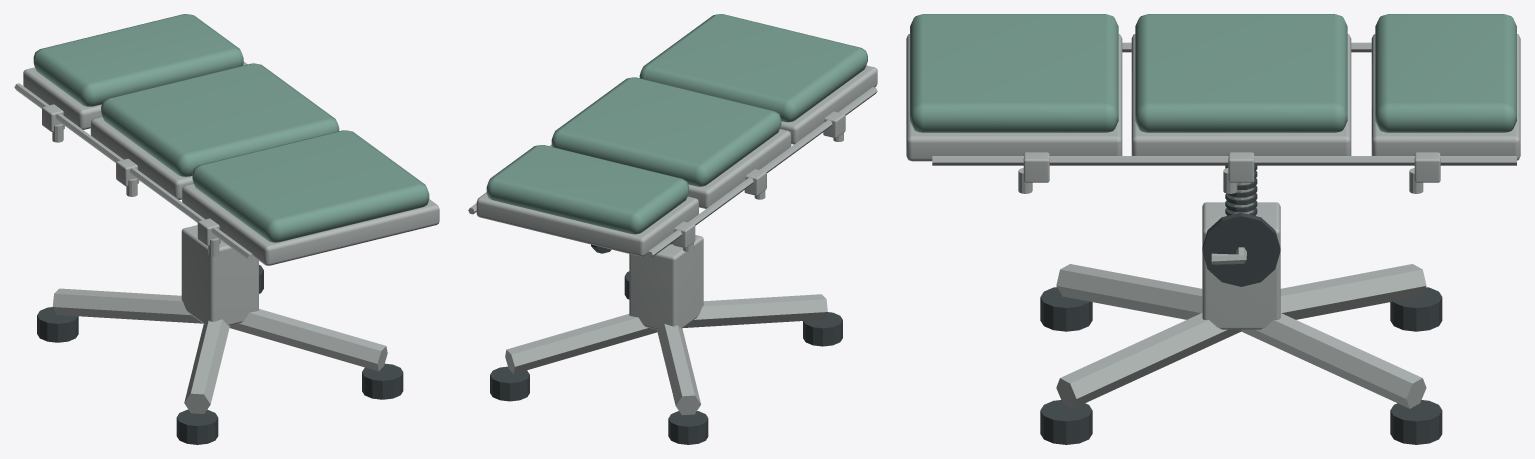
Rendered from operating_table_starter.glb.
The picture shows the model from 3 angles, left to right: view 1: azimuth 30°, elevation 25°; view 2: azimuth 150°, elevation 25°; view 3: azimuth 270°, elevation 25°; orthographic projection. The views are drawn at different scales.
Visible parts, largest first — view 1: STATIC_operating_table_starter, MOVING_PIVOT_table_section_0, MOVING_PIVOT_table_section_1, MOVING_PIVOT_table_section_2; view 2: STATIC_operating_table_starter, MOVING_PIVOT_table_section_1, MOVING_PIVOT_table_section_0, MOVING_PIVOT_table_section_2; view 3: STATIC_operating_table_starter, MOVING_PIVOT_table_section_1, MOVING_PIVOT_table_section_0, MOVING_PIVOT_table_section_2.
Part boxes in pixels (bbox=[...]): STATIC_operating_table_starter: bbox=[14, 61, 403, 444]; MOVING_PIVOT_table_section_0: bbox=[182, 130, 439, 265]; MOVING_PIVOT_table_section_1: bbox=[90, 63, 339, 199]; MOVING_PIVOT_table_section_2: bbox=[23, 14, 245, 129]; STATIC_operating_table_starter: bbox=[468, 87, 877, 444]; MOVING_PIVOT_table_section_1: bbox=[550, 77, 791, 208]; MOVING_PIVOT_table_section_0: bbox=[639, 14, 877, 144]; MOVING_PIVOT_table_section_2: bbox=[476, 145, 698, 256]; STATIC_operating_table_starter: bbox=[932, 42, 1516, 444]; MOVING_PIVOT_table_section_1: bbox=[1131, 14, 1351, 155]; MOVING_PIVOT_table_section_0: bbox=[906, 14, 1122, 161]; MOVING_PIVOT_table_section_2: bbox=[1371, 14, 1520, 160].
Size of the model in its own units: 0.86 by 0.945 by 1.65.
